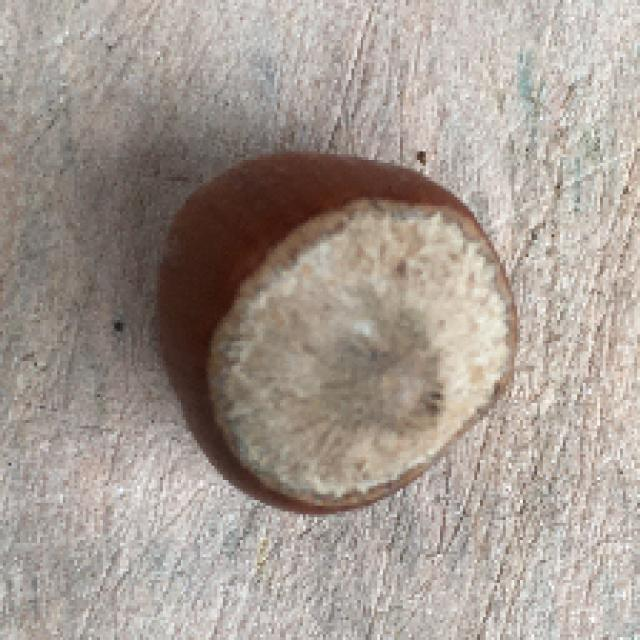qualityHazelnut: (152, 148, 520, 517)
